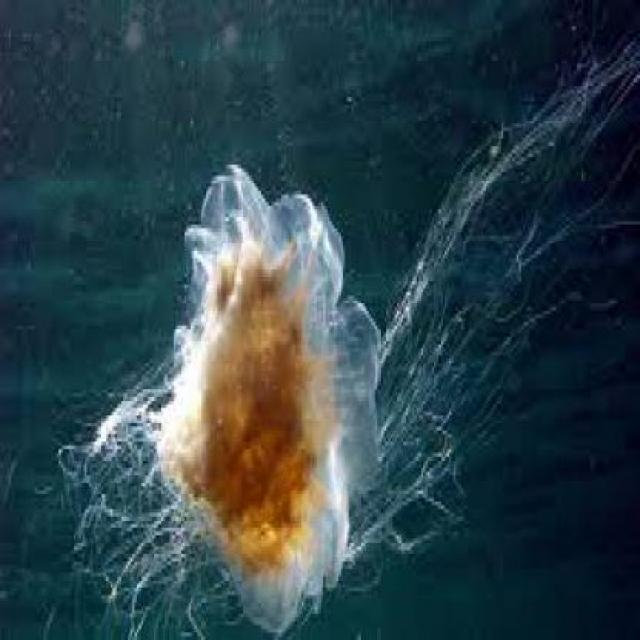Jellyfish: (115, 120, 412, 614)
